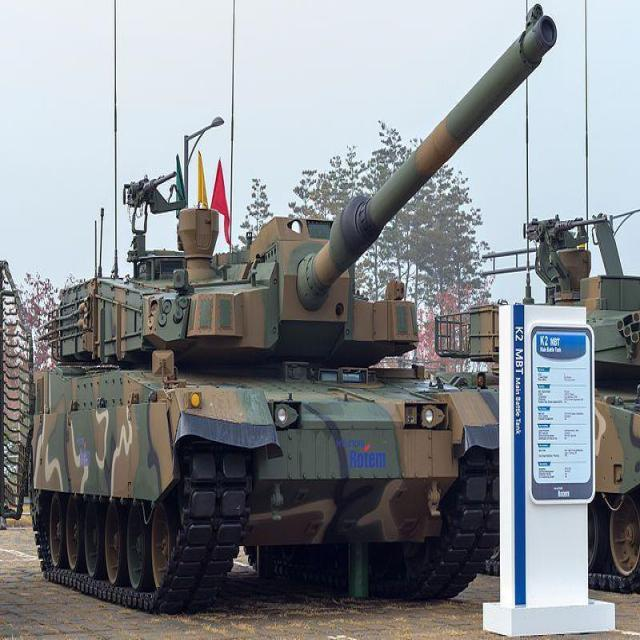Tanks: (31, 190, 502, 617)
